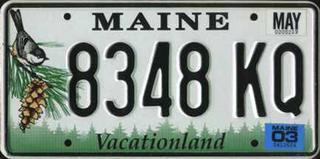placa de veiculo: (4, 1, 316, 158)
